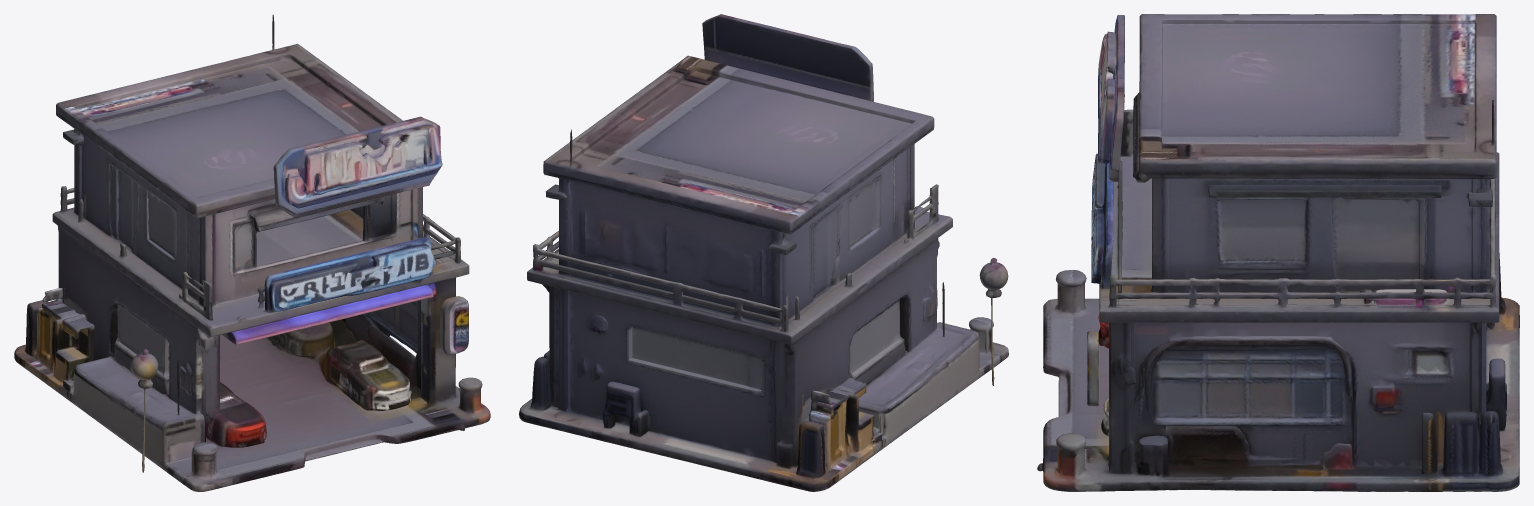
Rendered from garage.glb.
3 views of the same model, side by side, from view 1: azimuth 30°, elevation 25°; view 2: azimuth 150°, elevation 25°; view 3: azimuth 270°, elevation 25° (orthographic). The views are drawn at different scales.
Visible parts, largest first — view 1: tripo_node_24c82dd8-2003-461d-b806-f236e69bab80; view 2: tripo_node_24c82dd8-2003-461d-b806-f236e69bab80; view 3: tripo_node_24c82dd8-2003-461d-b806-f236e69bab80.
Part boxes in pixels (box(x1,y1,x2,y2)): tripo_node_24c82dd8-2003-461d-b806-f236e69bab80: box(14, 14, 490, 491); tripo_node_24c82dd8-2003-461d-b806-f236e69bab80: box(519, 14, 1008, 491); tripo_node_24c82dd8-2003-461d-b806-f236e69bab80: box(1037, 14, 1519, 491).
Bounding box in the file's own units: 0.9985 × 0.8458 × 1.
Materials: 1 (1 with a texture image).
